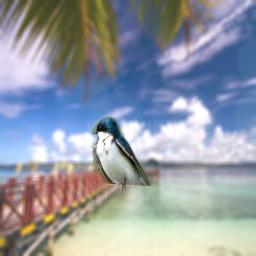Swallow: (92, 116, 151, 197)
